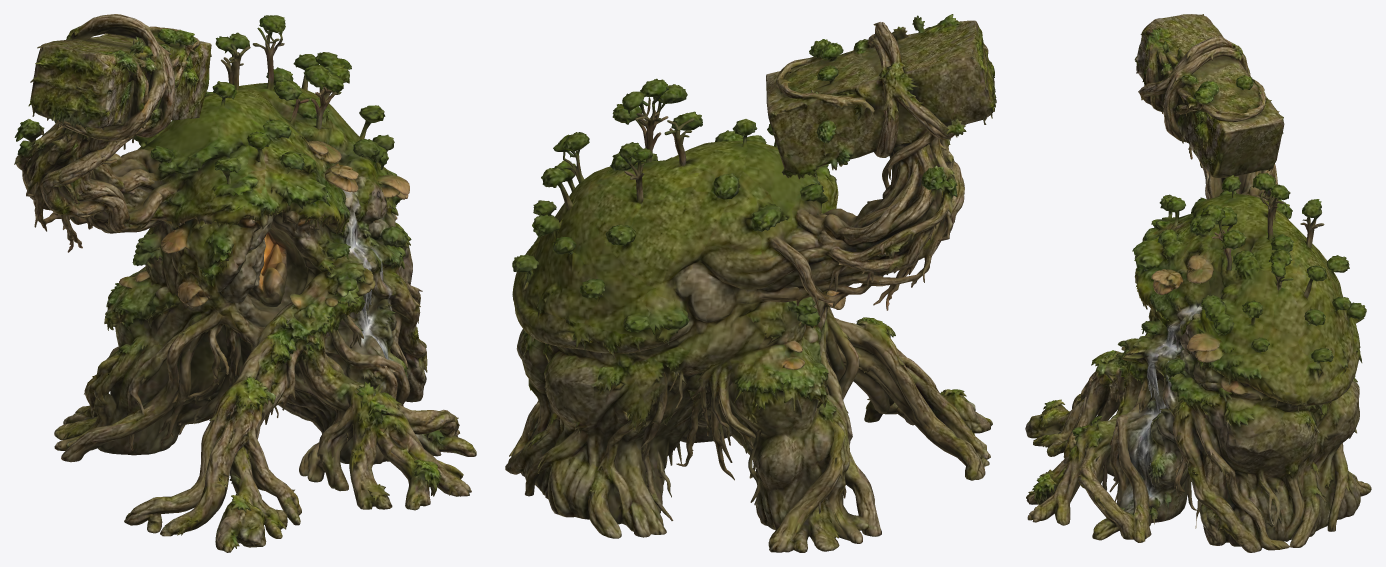
Rendered from giants_titan.glb.
3 renders of one model, left to right at view 1: azimuth 30°, elevation 25°; view 2: azimuth 150°, elevation 25°; view 3: azimuth 270°, elevation 25°, orthographic. The views are drawn at different scales.
Visible parts, largest first — view 1: tripo_node_c62ed311-e1e1-4099-8f10-0c67d0abd0ba; view 2: tripo_node_c62ed311-e1e1-4099-8f10-0c67d0abd0ba; view 3: tripo_node_c62ed311-e1e1-4099-8f10-0c67d0abd0ba.
Boxes of the visible parts, x1,y1,x2,y2 form: tripo_node_c62ed311-e1e1-4099-8f10-0c67d0abd0ba: (14, 14, 476, 552); tripo_node_c62ed311-e1e1-4099-8f10-0c67d0abd0ba: (505, 14, 996, 552); tripo_node_c62ed311-e1e1-4099-8f10-0c67d0abd0ba: (1025, 14, 1371, 552).
Size of the model in its own units: 0.9391 by 0.978 by 0.8022.
1 material, 1 textured.
